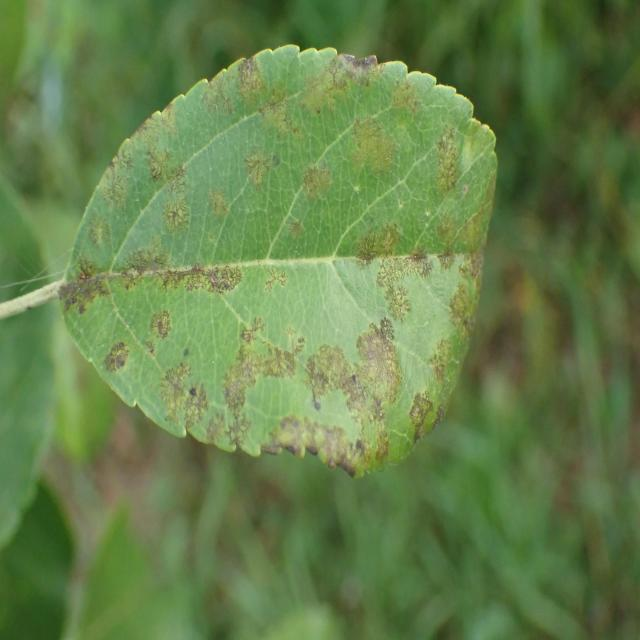scab: (24, 22, 534, 480)
